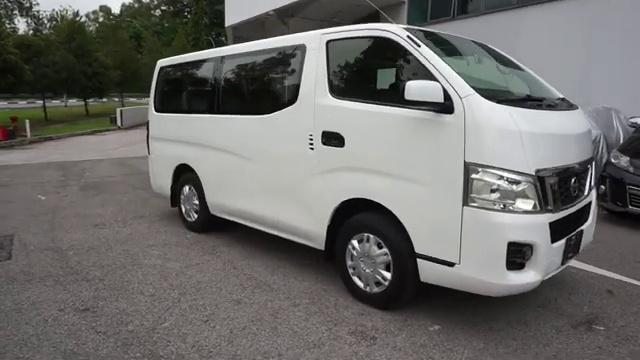Van: (146, 21, 607, 306)
